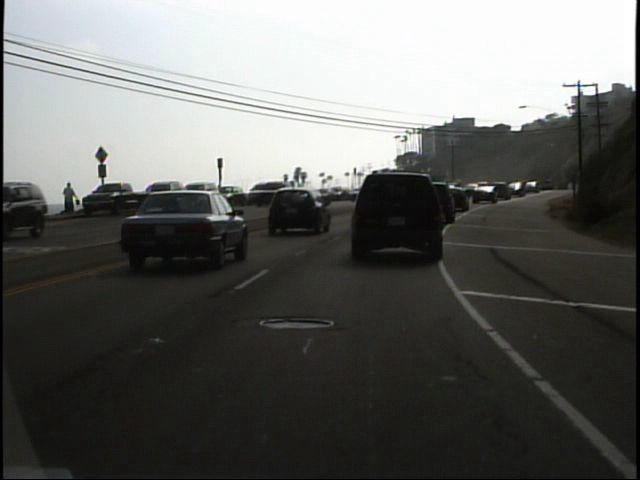person: (61, 179, 82, 220)
